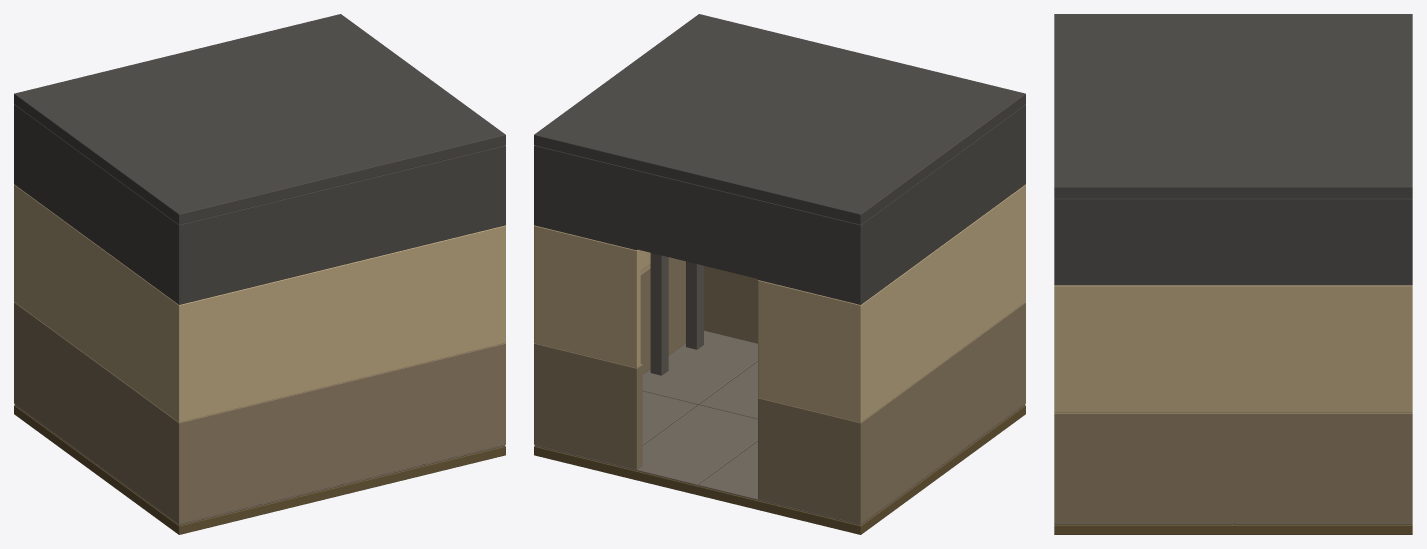
Rendered from gen-switch.glb.
The picture shows the model from 3 angles, left to right: view 1: azimuth 30°, elevation 25°; view 2: azimuth 150°, elevation 25°; view 3: azimuth 270°, elevation 25°; orthographic projection. The views are drawn at different scales.
Parts seen in each view (by area): view 1: THE SWITCHROOM; view 2: THE SWITCHROOM; view 3: THE SWITCHROOM.
Boxes of the visible parts, left/top/right/bottom form: THE SWITCHROOM: left=14, top=14, right=505, bottom=534; THE SWITCHROOM: left=534, top=14, right=1025, bottom=534; THE SWITCHROOM: left=1054, top=14, right=1412, bottom=534.
Bounding box in the file's own units: 3.2 × 3 × 2.8.
